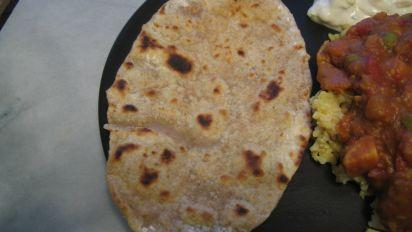chapati: (106, 1, 311, 231)
